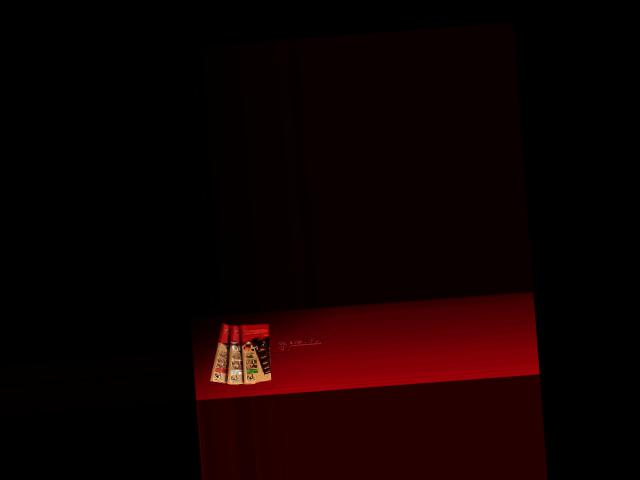chocolate: (205, 319, 241, 387)
